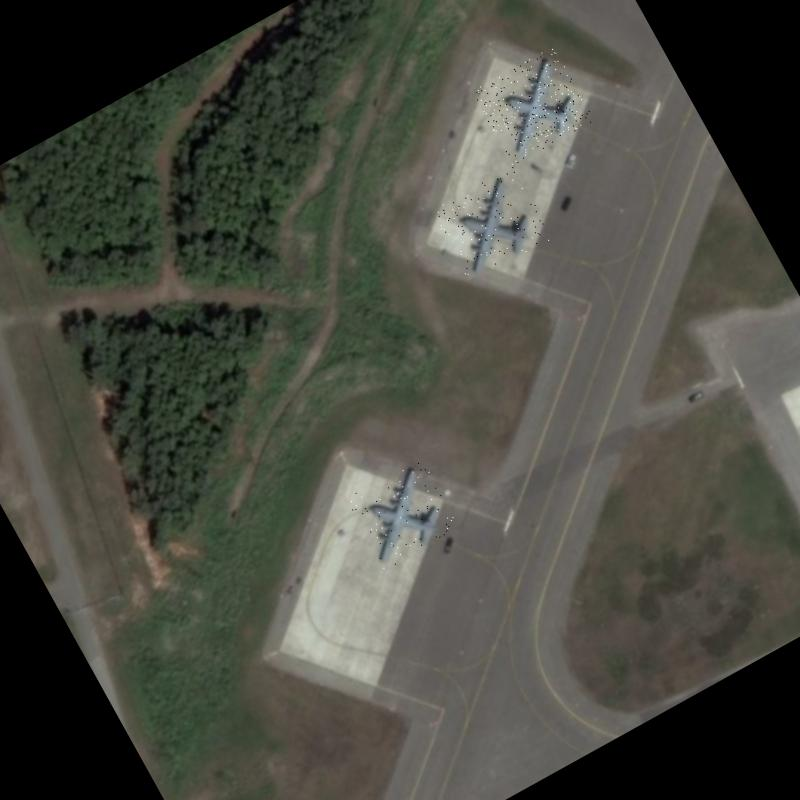A2: (471, 45, 594, 165), (430, 165, 553, 284), (342, 455, 461, 572)
